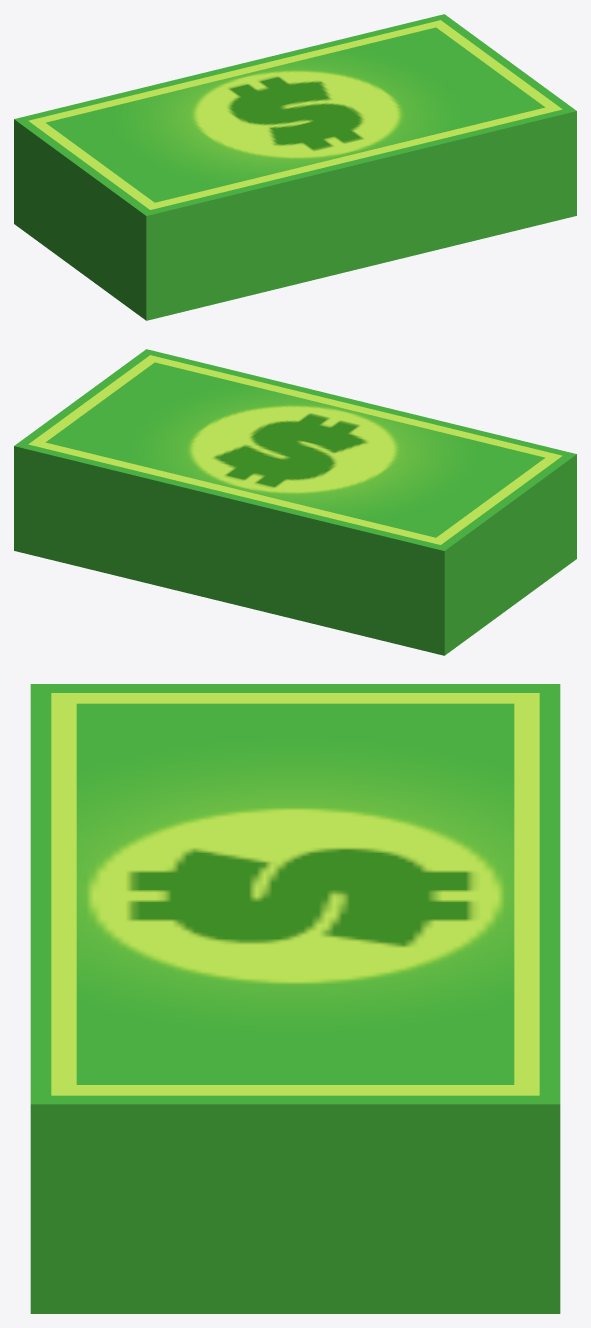
The model's file is MoneyBill_2.fbx.
The picture shows the model from 3 angles, top to bottom: view 1: azimuth 30°, elevation 25°; view 2: azimuth 150°, elevation 25°; view 3: azimuth 270°, elevation 25°; orthographic projection. The views are drawn at different scales.
Parts seen in each view (by area): view 1: MoneyBill_2; view 2: MoneyBill_2; view 3: MoneyBill_2.
Part boxes in pixels (x1,y1,x2,y2): MoneyBill_2: (14, 14, 576, 320); MoneyBill_2: (14, 349, 576, 655); MoneyBill_2: (30, 684, 560, 1313).
Size of the model in its own units: 32.79 by 7.63 by 17.47.
Materials: 1 (1 with a texture image).
